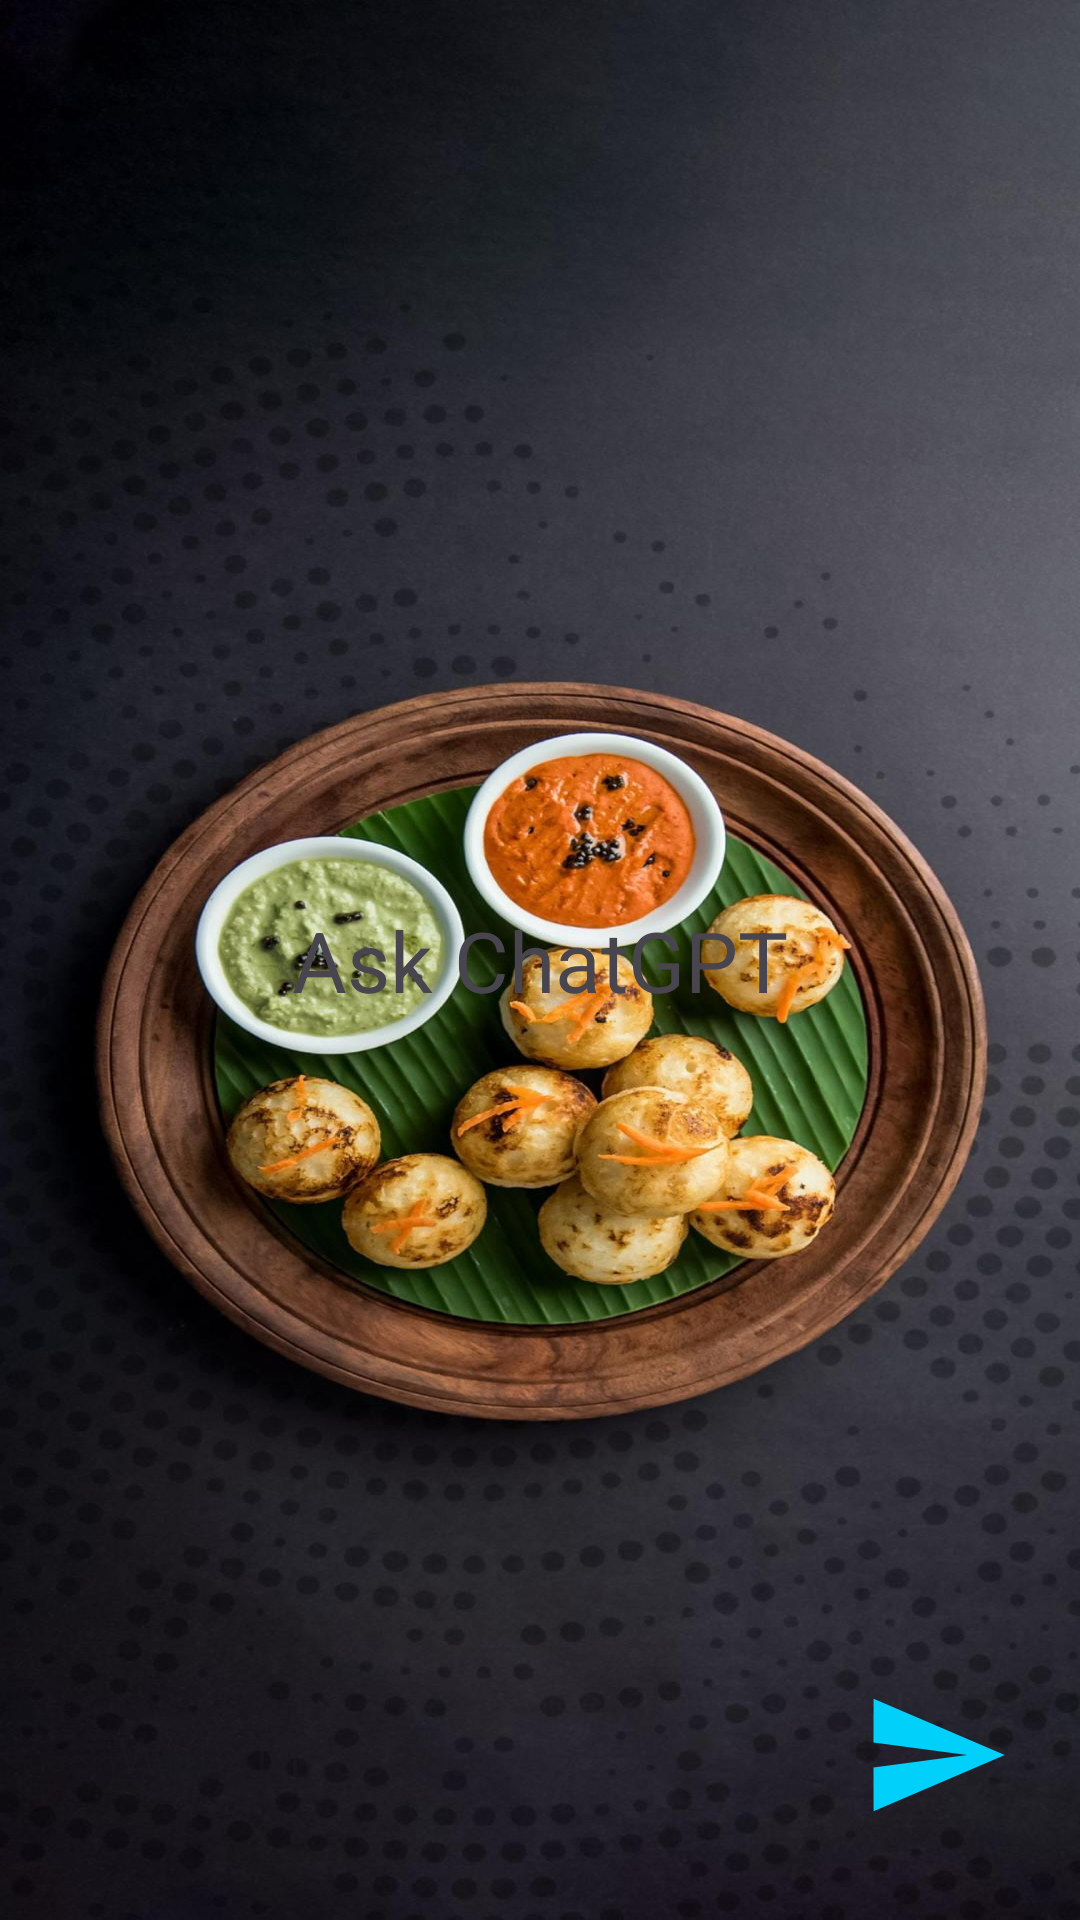

Point at icon controls on the screen. Image size 1080 × 1920, points as [x,y].
send: [939,1754]
